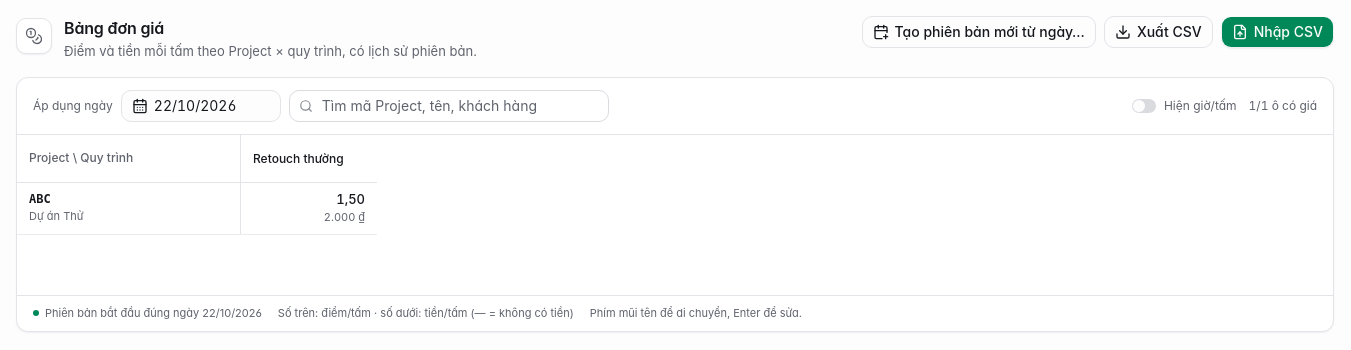
Scenario: Bảng đơn giá — Giờ/tấm, phiên bản và nguồn (PD-080) › “Hiện giờ/tấm” adds the hours line to every cell (≈ when derived); the cell names them always
Check: the text "1/1 ô có giá" is shown, box [1249, 98, 1317, 114]
Check: the button "ABC × Retouch thường:" does not show "h"
Click the switch named "Hiện giờ/tấm" at [1144, 106], box [1132, 99, 1156, 113]
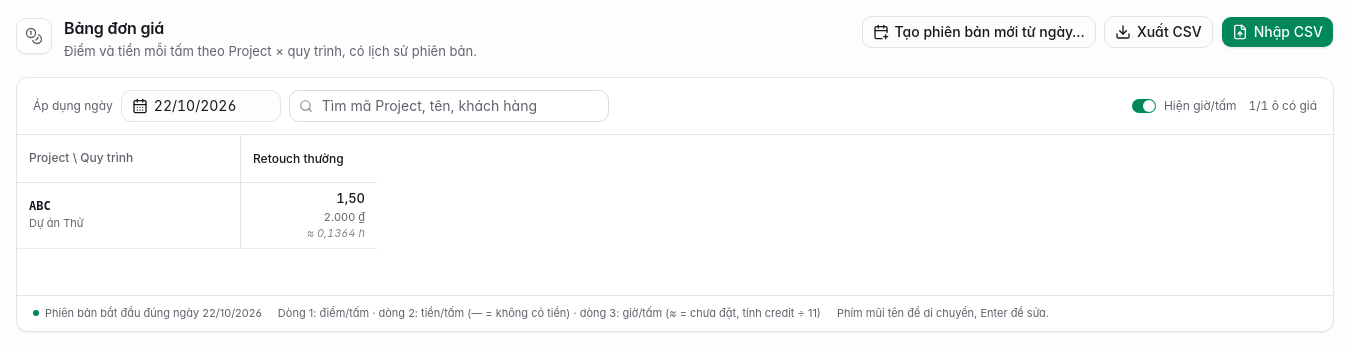
Check: the button named "ABC × Retouch thường:" shows "≈ 0,1364 h", box [241, 183, 377, 248]
Check: the text "dòng 3: giờ/tấm" is shown, box [278, 306, 821, 320]
